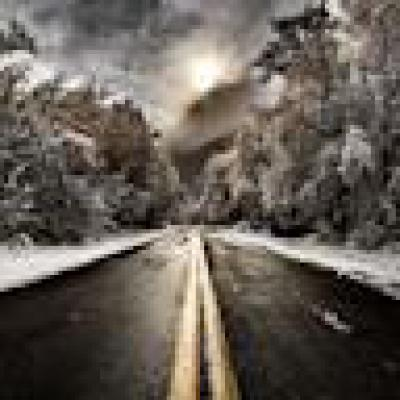iced-road: (0, 233, 192, 400), (208, 242, 400, 400)
